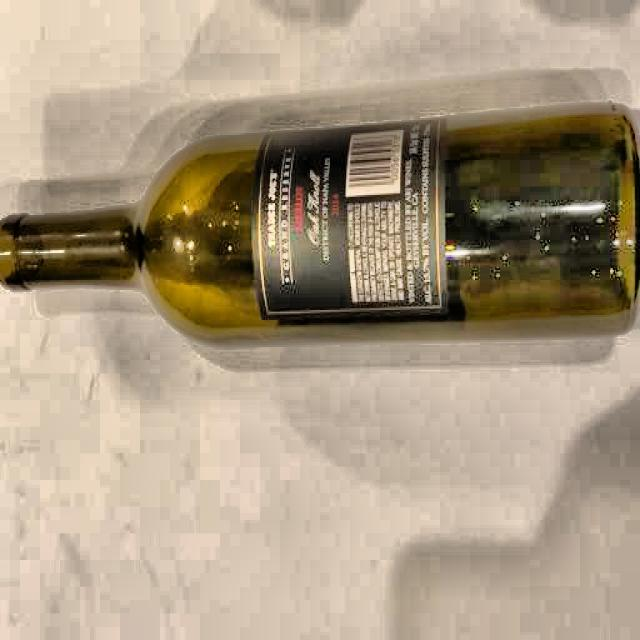glass: (0, 102, 640, 340)
